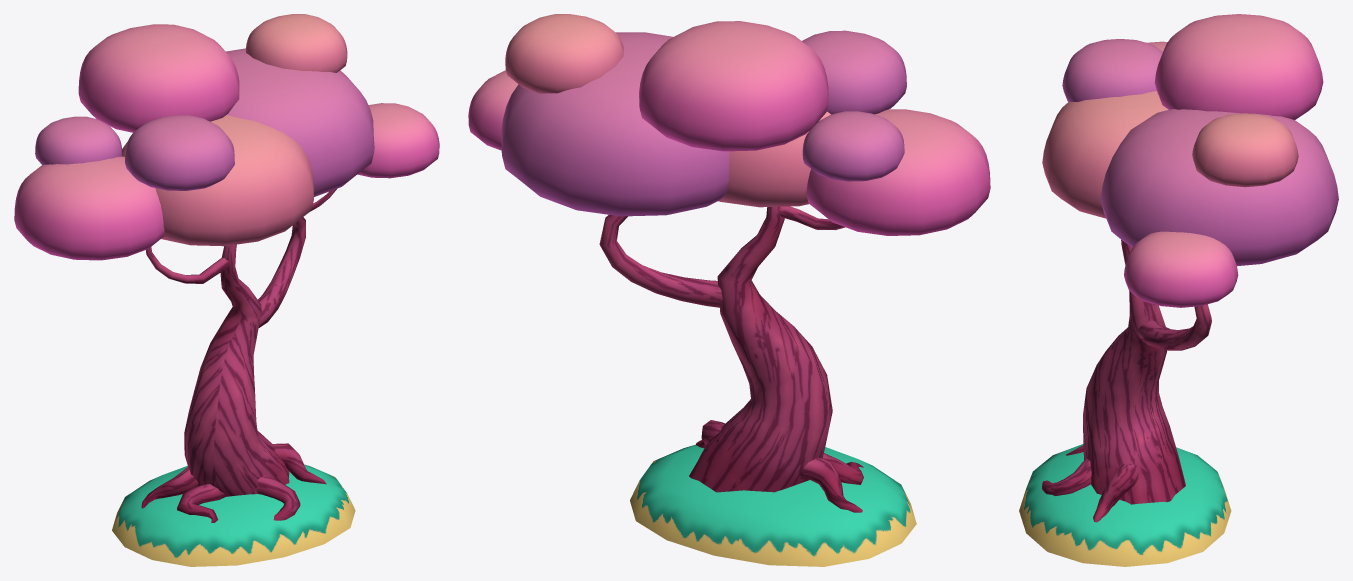
The model's file is TreeL_001.fbx.
The picture shows the model from 3 angles, left to right: view 1: azimuth 30°, elevation 25°; view 2: azimuth 150°, elevation 25°; view 3: azimuth 270°, elevation 25°; orthographic projection. The views are drawn at different scales.
Visible parts, largest first — view 1: tree1; view 2: tree1; view 3: tree1.
Boxes of the visible parts, x1=… form: tree1: x1=14, y1=14, x2=439, y2=566; tree1: x1=468, y1=14, x2=990, y2=566; tree1: x1=1019, y1=14, x2=1338, y2=566.
Size of the model in its own units: 10.11 by 10.4 by 6.39.
Materials: 1 (1 with a texture image).
